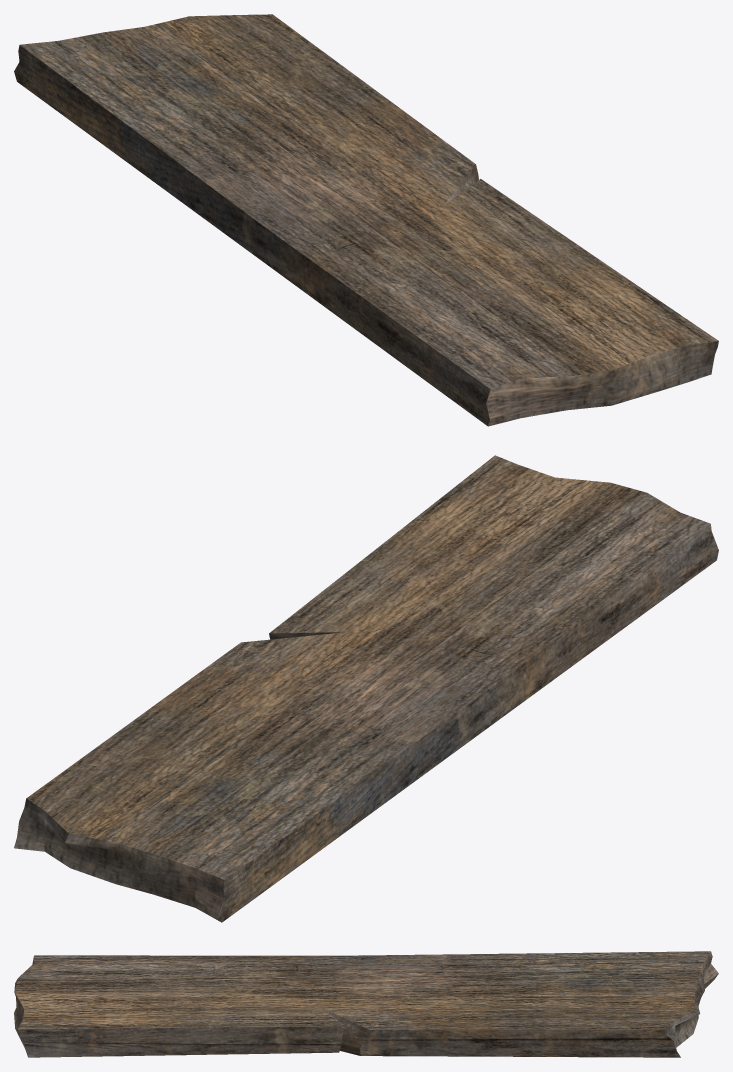
File: fbx_Wood_01.fbx
3 renders of one model, top to bottom at view 1: azimuth 30°, elevation 25°; view 2: azimuth 150°, elevation 25°; view 3: azimuth 270°, elevation 25°, orthographic. The views are drawn at different scales.
Parts seen in each view (by area): view 1: plank_03; view 2: plank_03; view 3: plank_03.
Boxes of the visible parts, x1,y1,x2,y2 form: plank_03: [14, 14, 718, 426]; plank_03: [14, 455, 718, 922]; plank_03: [14, 951, 718, 1057].
Bounding box in the file's own units: 0.017 × 0.00325 × 0.0648.
